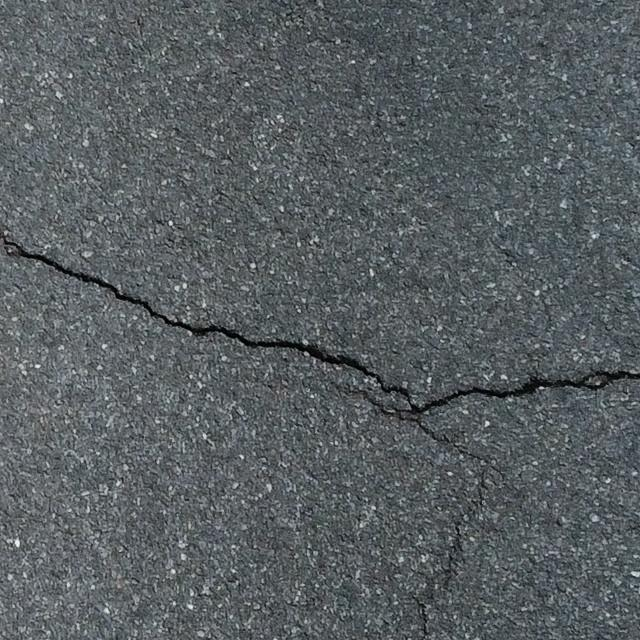TransverseCrack: (4, 235, 640, 415)
